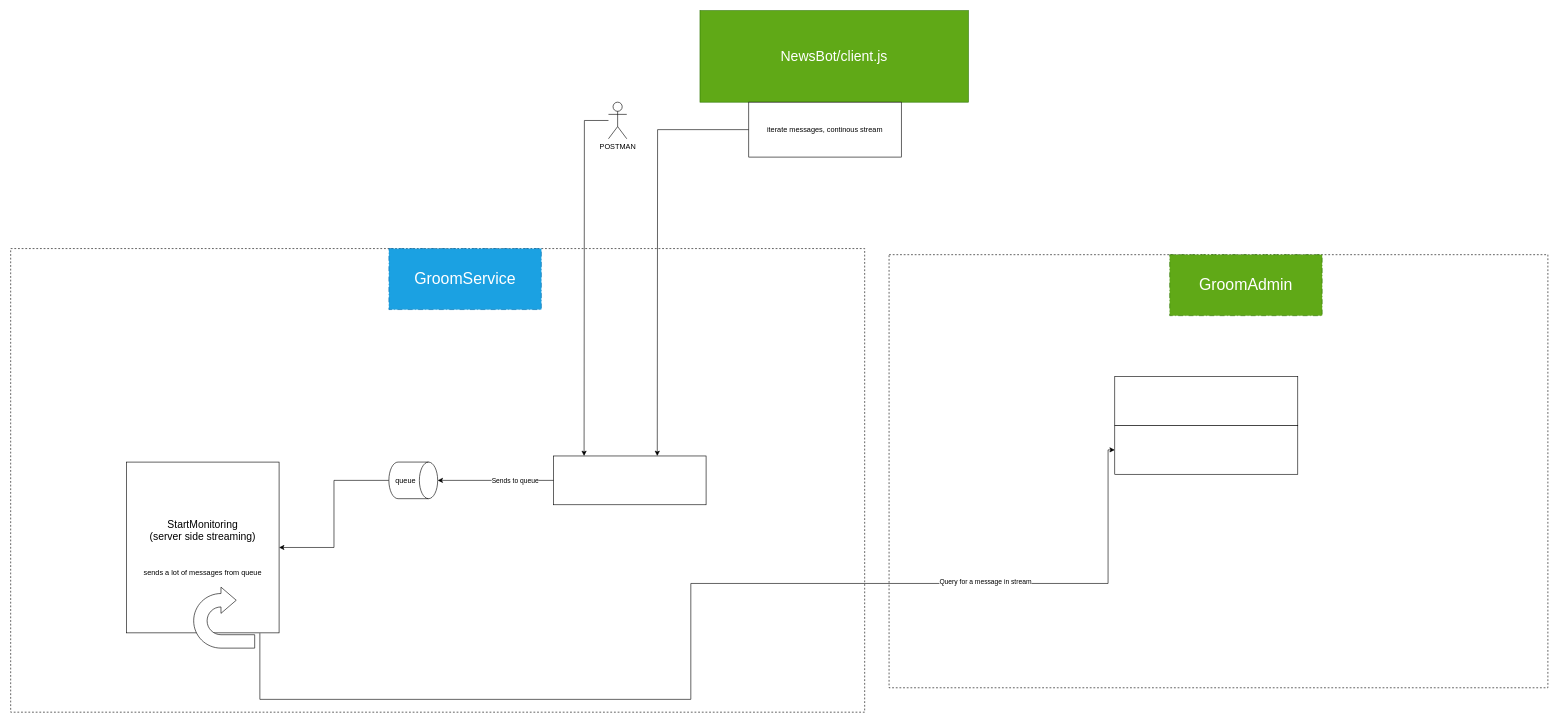
Some shapes in this 1559 by 723 pixel diagram are drawn without their labels. The box of each missing label's shape, as (x1, y1, x2, y2) in pixels:
- SendNewsFlash (client side stream): (553, 455, 706, 505)
monitor(): (1114, 425, 1298, 474)
monitor_chat.py: (1114, 376, 1298, 425)
